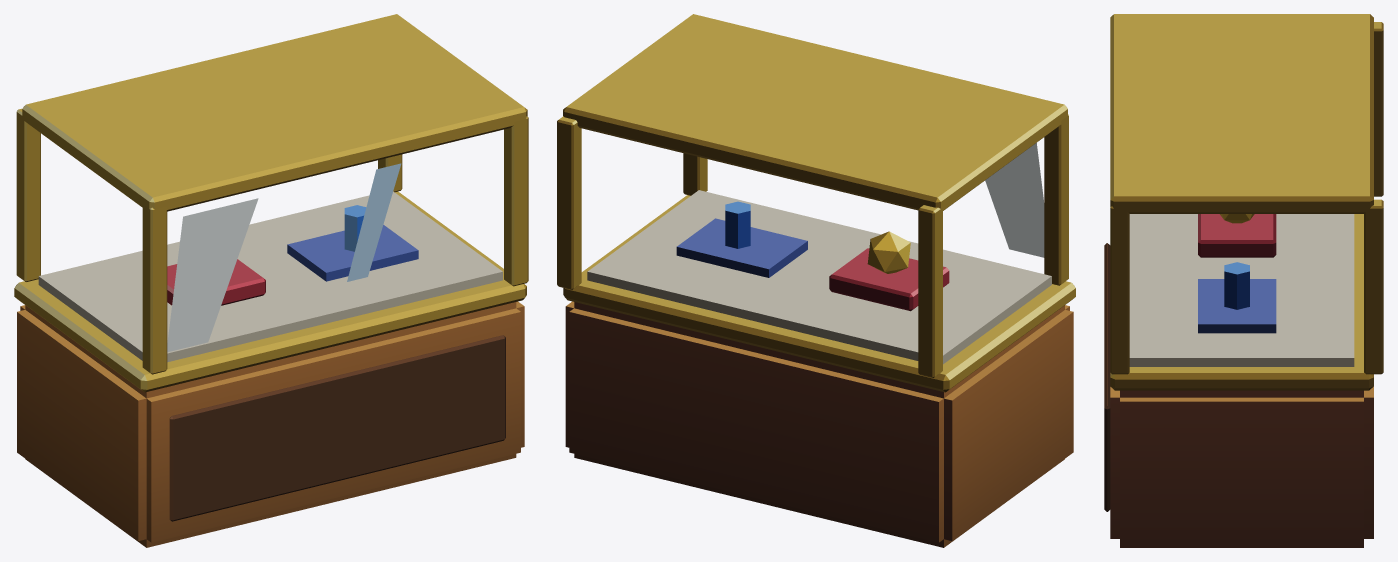
The model's file is display_case.glb.
3 renders of one model, left to right at view 1: azimuth 30°, elevation 25°; view 2: azimuth 150°, elevation 25°; view 3: azimuth 270°, elevation 25°, orthographic.
Parts seen in each view (by area): view 1: display_case; view 2: display_case; view 3: display_case.
Part boxes in pixels (x1,y1,x2,y2): display_case: (14,14,528,547); display_case: (557,14,1075,547); display_case: (1104,14,1383,547).
Size of the model in its own units: 0.92 by 0.8 by 0.572.
